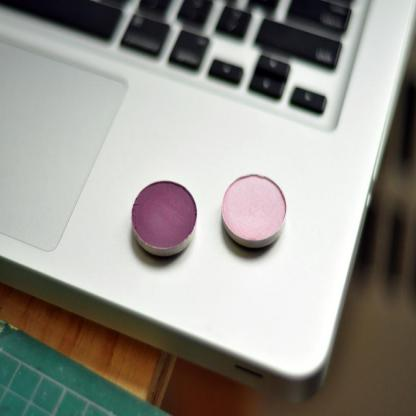board: (14, 0, 398, 375)
